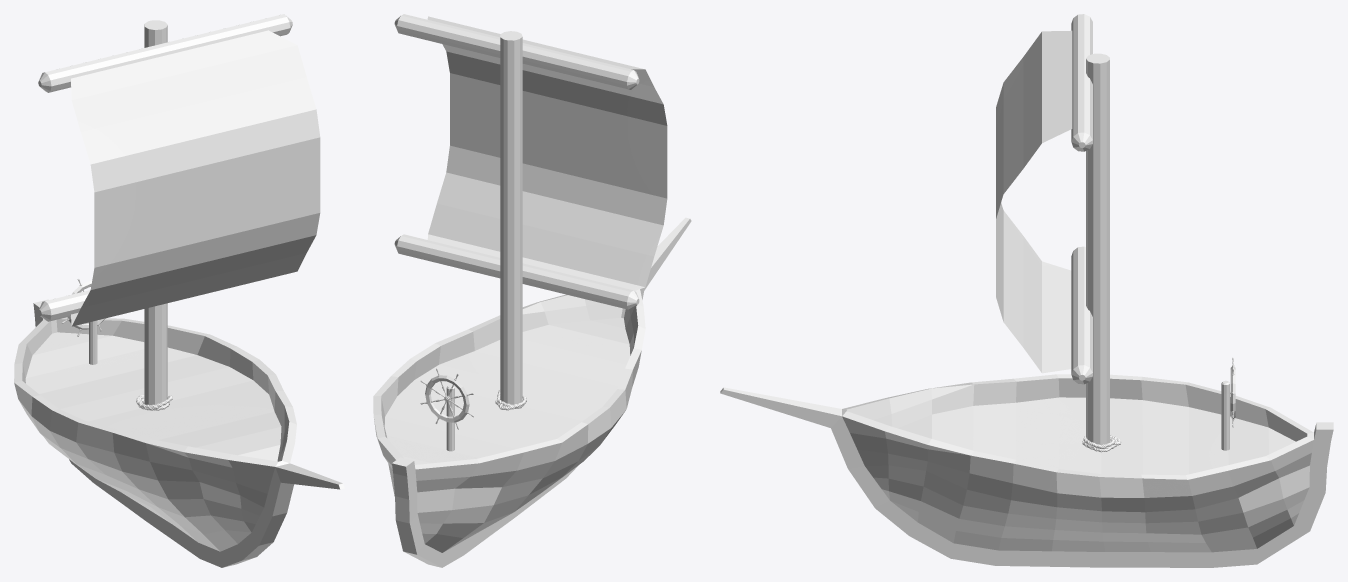
File: transparent_boat.fbx
3 views of the same model, side by side, from view 1: azimuth 30°, elevation 25°; view 2: azimuth 150°, elevation 25°; view 3: azimuth 270°, elevation 25° (orthographic). The views are drawn at different scales.
Parts seen in each view (by area): view 1: sail, boat, floor, mast; view 2: sail, boat, floor, mast, wheel, rack; view 3: boat, floor, sail, mast.
Boxes of the visible parts, <box> form: sail: <box>71,30,320,326</box>; boat: <box>14,299,344,567</box>; floor: <box>25,332,281,461</box>; mast: <box>38,14,292,405</box>; sail: <box>427,16,667,290</box>; boat: <box>373,217,691,567</box>; floor: <box>384,317,630,464</box>; mast: <box>394,14,639,404</box>; wheel: <box>420,368,473,429</box>; rack: <box>445,385,454,451</box>; boat: <box>720,374,1333,567</box>; floor: <box>898,397,1295,475</box>; sail: <box>996,30,1072,373</box>; mast: <box>1071,14,1109,447</box>.
Size of the model in its own units: 3415 by 6461 by 7107.
Materials: 1 (1 with a texture image).
